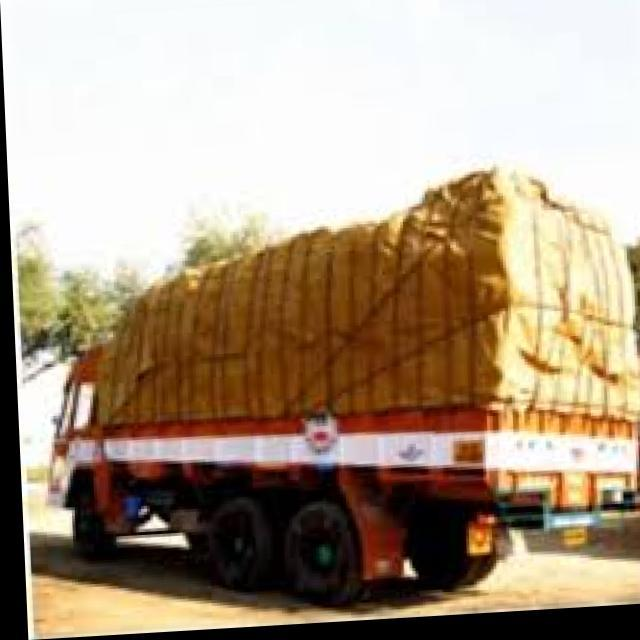covered: (32, 174, 636, 612)
